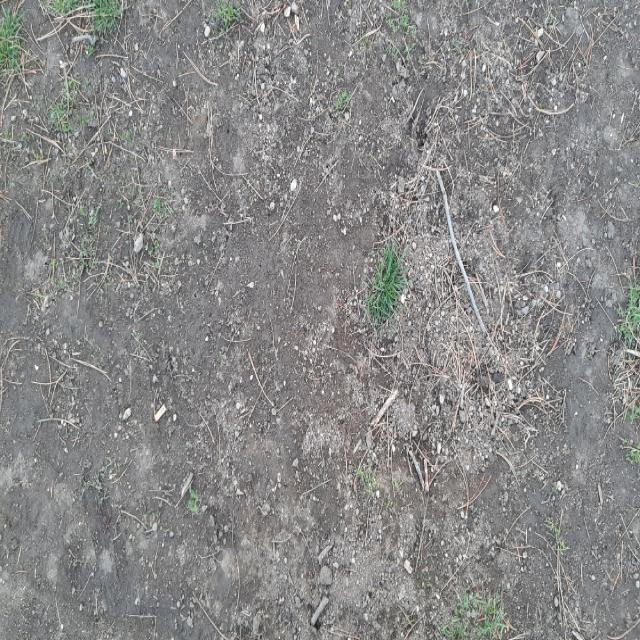grass: (366, 240, 406, 323)
